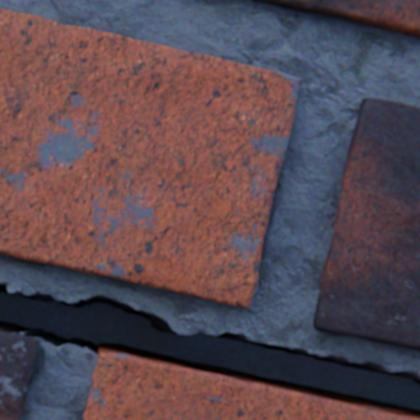brick: (0, 10, 299, 307), (312, 99, 419, 351), (83, 352, 419, 419), (248, 0, 419, 39), (0, 331, 39, 419)
crack: (0, 283, 419, 417)
